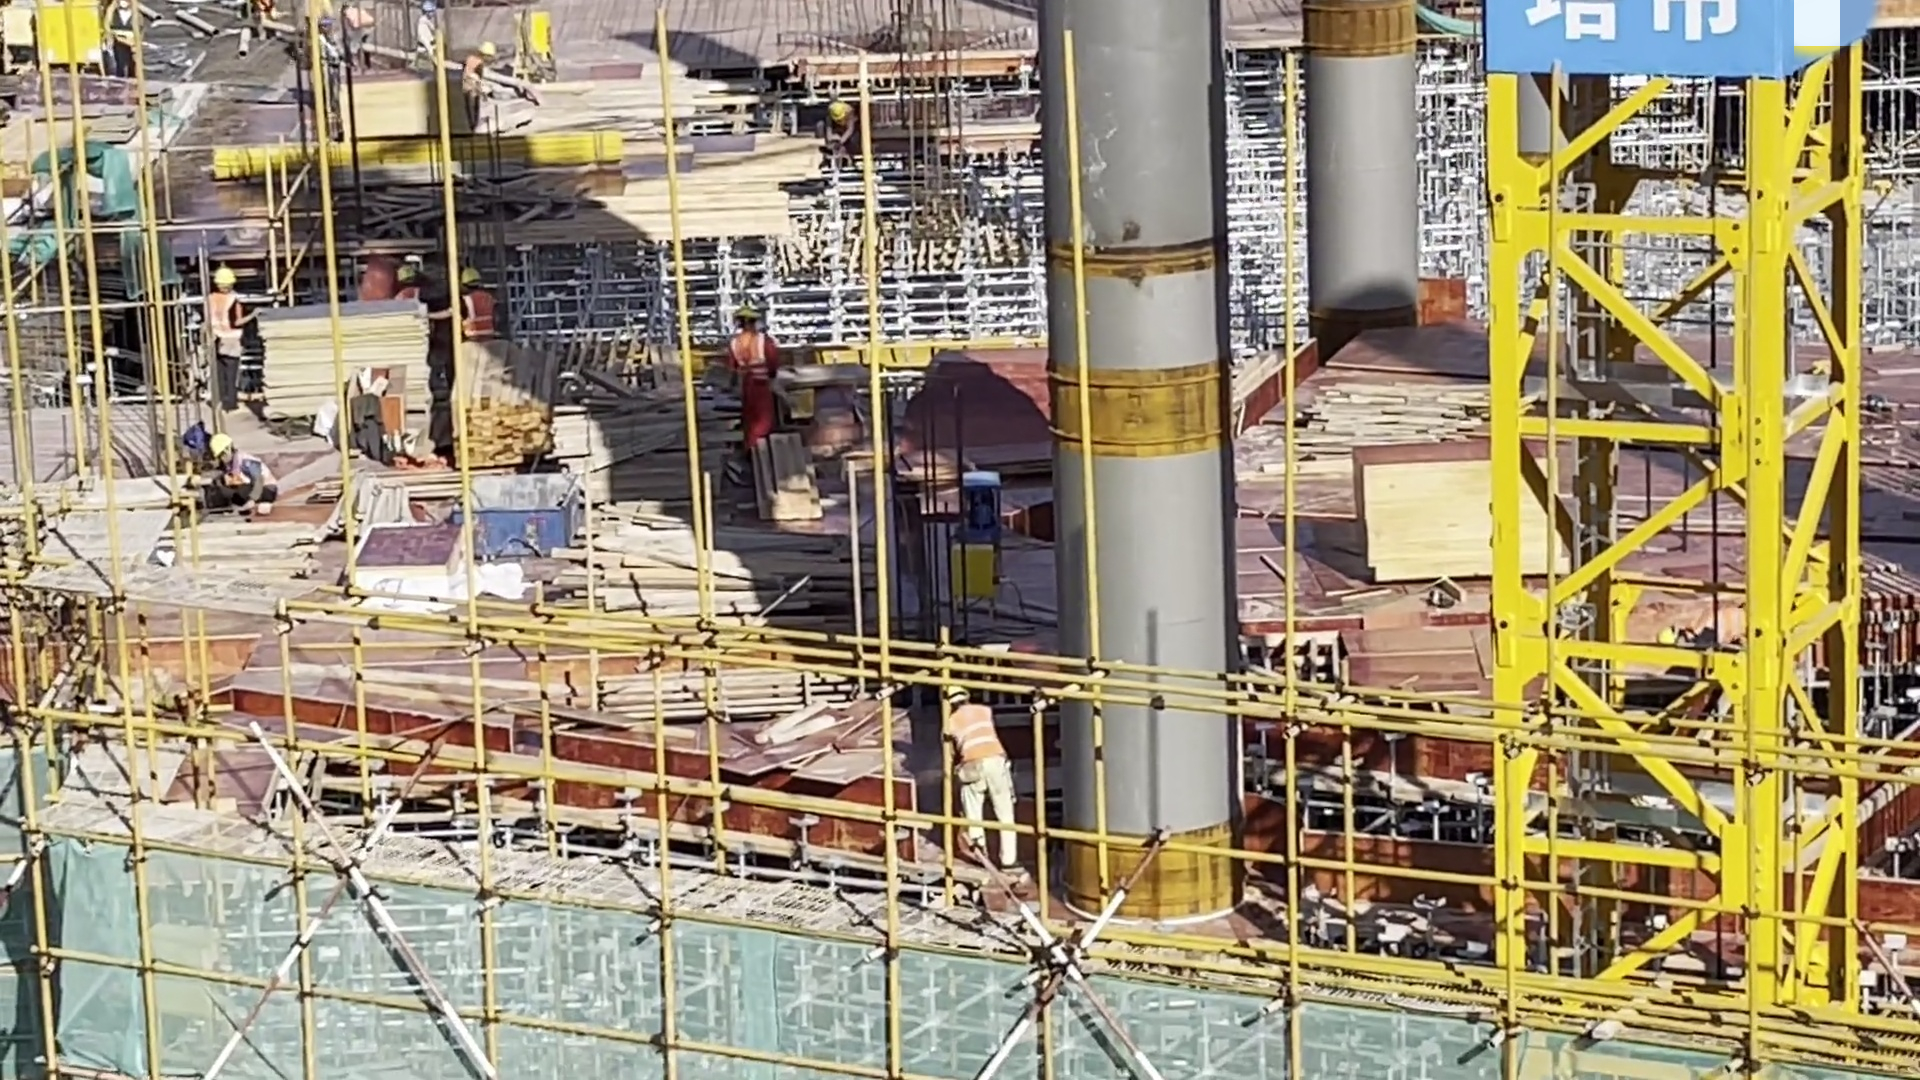board: (1336, 416, 1633, 597), (253, 304, 433, 422), (331, 66, 457, 137)
cutter: (889, 426, 996, 571)
ebox: (961, 541, 1054, 646), (19, 1, 111, 64), (488, 1, 569, 62)
helmet: (1661, 623, 1686, 654), (732, 297, 762, 320), (215, 268, 236, 298), (942, 683, 969, 705), (480, 35, 498, 64), (398, 263, 422, 284), (827, 108, 849, 128), (216, 438, 235, 461), (458, 267, 479, 283), (422, 1, 439, 19)
hopper: (443, 476, 578, 554)
person: (933, 663, 1026, 873), (724, 295, 799, 440), (1671, 590, 1763, 700), (207, 432, 281, 533), (208, 261, 252, 403), (818, 100, 869, 170), (446, 270, 491, 346), (464, 40, 500, 130), (339, 3, 373, 71), (412, 1, 449, 65), (394, 250, 429, 317), (106, 1, 137, 64)
vest: (951, 706, 1004, 776), (1688, 595, 1754, 648), (210, 287, 242, 357), (737, 330, 768, 385), (459, 288, 492, 338), (342, 3, 365, 45), (420, 18, 444, 58), (227, 452, 263, 477), (111, 8, 135, 45), (466, 55, 484, 100), (837, 114, 864, 142), (399, 286, 419, 300)
wood: (599, 511, 836, 632), (564, 396, 698, 514), (451, 362, 546, 446)
